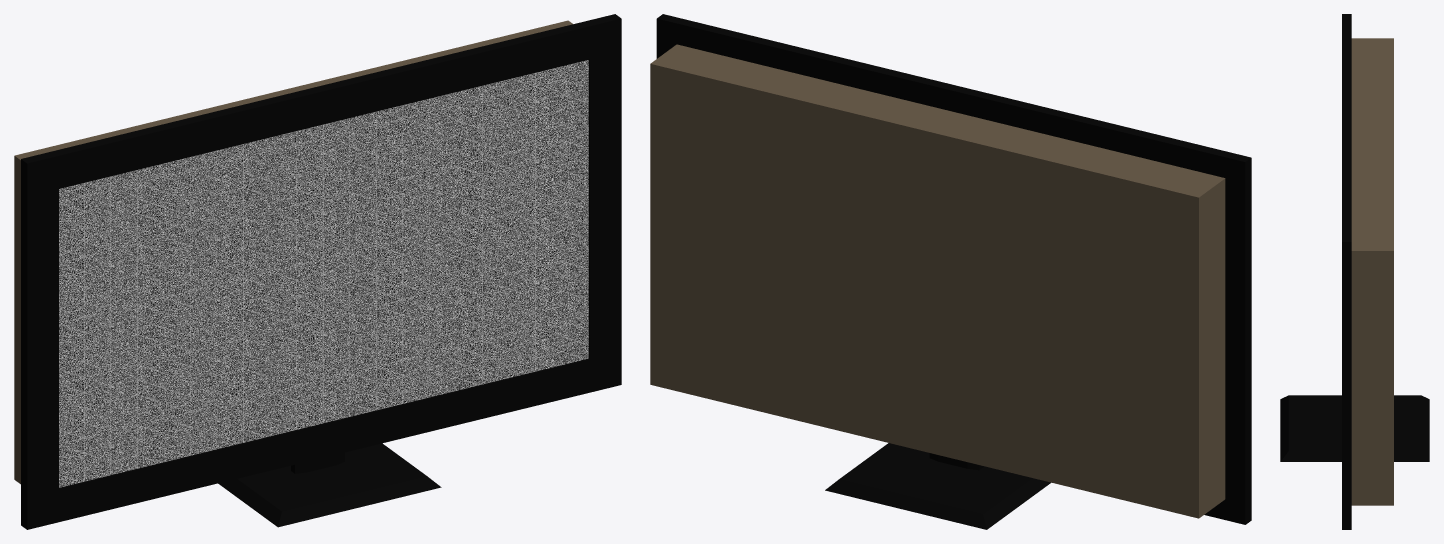
File: TVTextured.fbx
The picture shows the model from 3 angles, left to right: view 1: azimuth 30°, elevation 25°; view 2: azimuth 150°, elevation 25°; view 3: azimuth 270°, elevation 25°; orthographic projection. The views are drawn at different scales.
Visible parts, largest first — view 1: Plane, Cube, Cube_1; view 2: Cube, Cube_1; view 3: Cube, Cube_1.
Part boxes in pixels (x1,y1,x2,y2): Plane: (59,60,588,487); Cube: (14,14,621,529); Cube_1: (218,443,441,527); Cube: (650,14,1251,524); Cube_1: (825,443,1050,529); Cube: (1342,14,1393,529); Cube_1: (1280,395,1429,461).
Bounding box in the file's own units: 103 × 64.03 × 28.45.
Materials: 3 (1 with a texture image).
